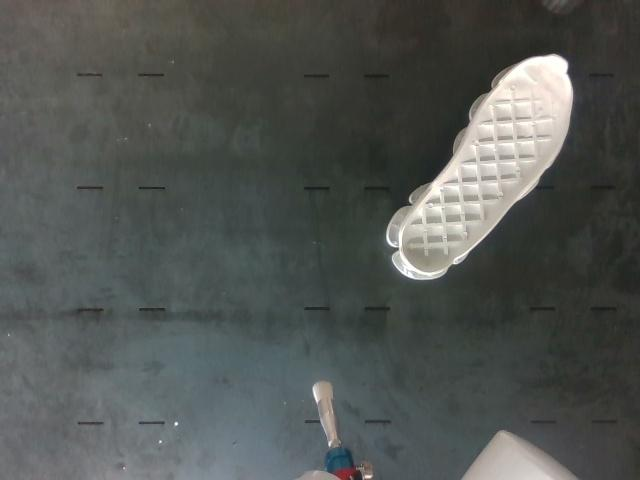shoes: (399, 54, 571, 274)
